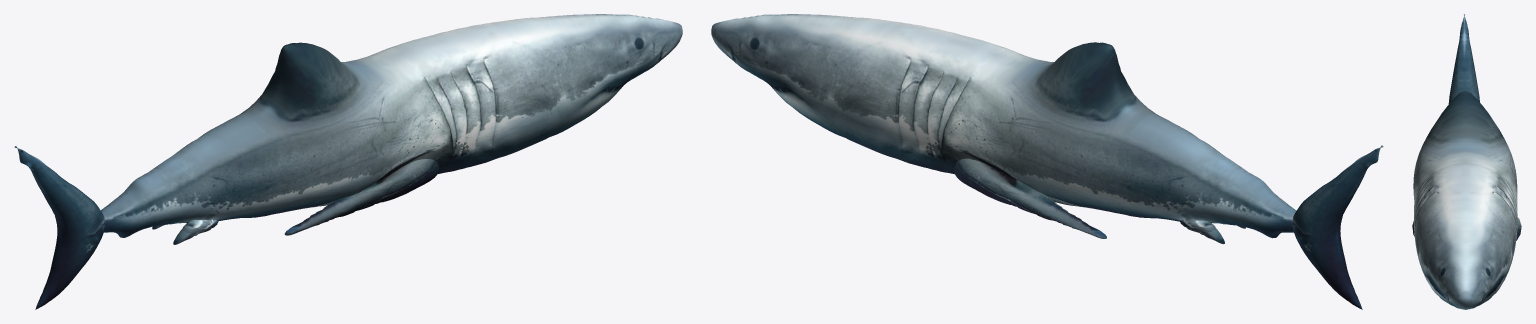
The model's file is great-white-shark.glb.
The picture shows the model from 3 angles, left to right: view 1: azimuth 30°, elevation 25°; view 2: azimuth 150°, elevation 25°; view 3: azimuth 270°, elevation 25°; orthographic projection. The views are drawn at different scales.
Parts seen in each view (by area): view 1: mm_frame (40); view 2: mm_frame (40); view 3: mm_frame (40).
Part boxes in pixels (bbox=[...]): mm_frame (40): bbox=[14, 14, 682, 309]; mm_frame (40): bbox=[711, 14, 1383, 309]; mm_frame (40): bbox=[1412, 14, 1521, 309].
Bounding box in the file's own units: 8.11 × 2.34 × 1.49.
Materials: 1 (1 with a texture image).
